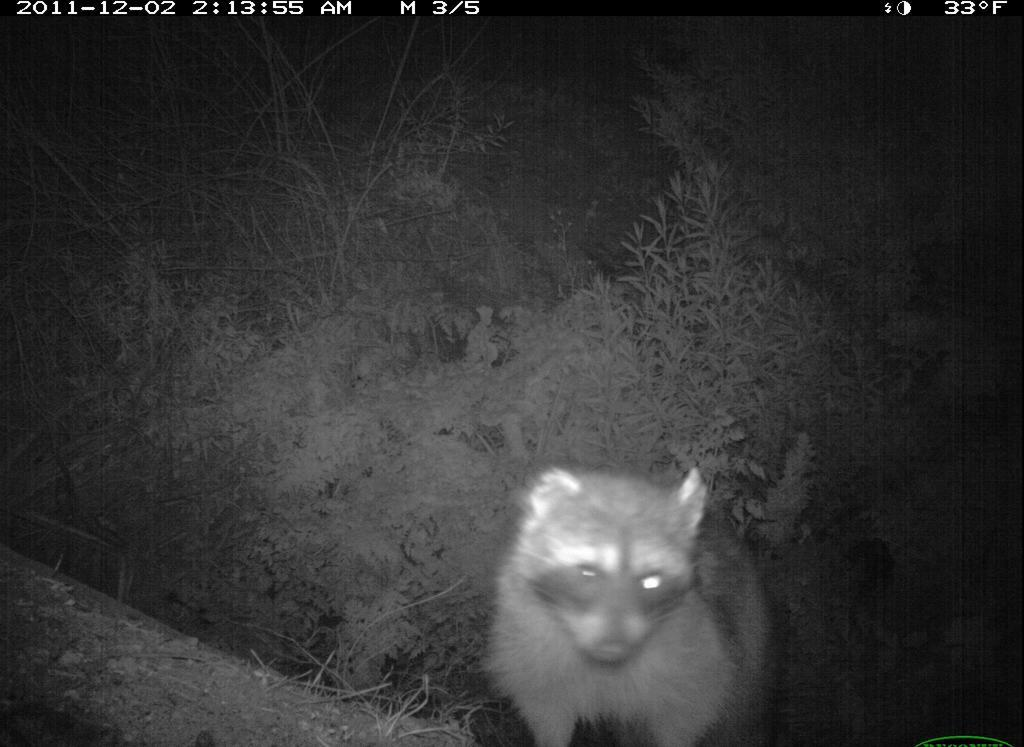raccoon: (470, 447, 790, 747)
